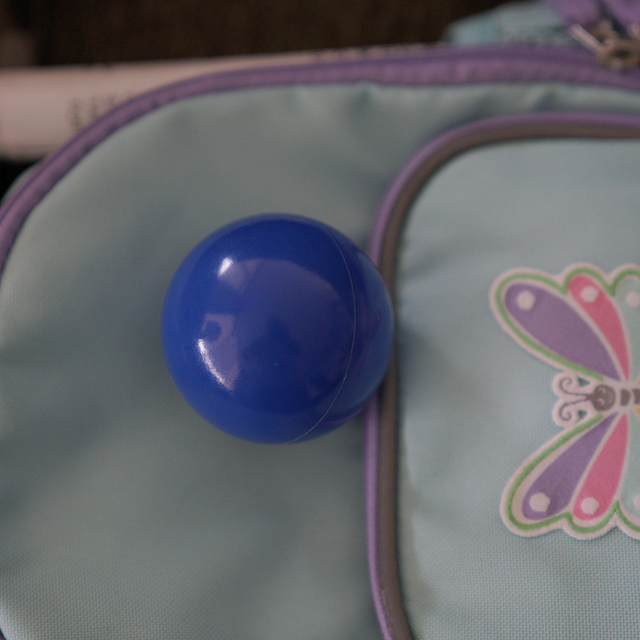Ball: (164, 215, 393, 446)
